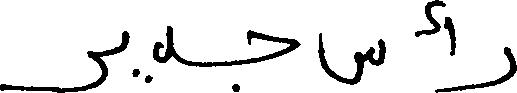X: (0, 46, 104, 92), (234, 25, 297, 92), (319, 28, 383, 89), (417, 0, 454, 92), (456, 42, 516, 92), (153, 21, 172, 67), (133, 64, 151, 87), (122, 26, 129, 55)
